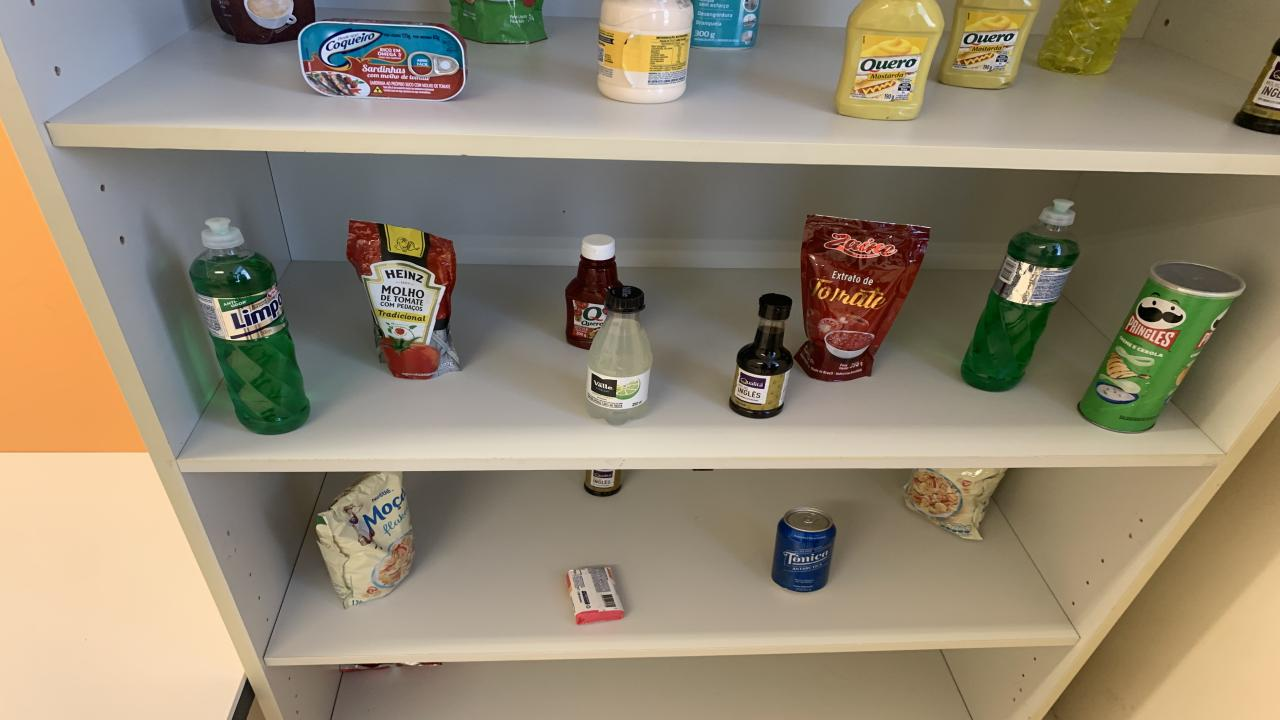Cleaner-Cleanup_Items: (690, 0, 760, 49)
Coffee-Pantry_Items: (210, 0, 315, 45)
Detergent-Cleanup_Items: (190, 218, 310, 433), (960, 199, 1080, 392), (1038, 0, 1138, 75)
English_Sauce-Pantry_Items: (730, 292, 792, 418), (1232, 38, 1280, 135), (585, 469, 622, 497)
Flakes-Snacks: (315, 472, 415, 608), (905, 469, 1005, 540)
Ketchup-Pantry_Items: (565, 234, 620, 349)
Mayonnaise-Pantry_Items: (598, 0, 692, 103)
Mustard-Pantry_Items: (835, 0, 945, 120), (938, 0, 1040, 88)
Pringles-Snacks: (1078, 261, 1245, 433)
Soap-Cleanup_Items: (565, 566, 625, 624)
Soda-Drinks: (588, 285, 652, 426)
Tomato_Sauce-Pantry_Items: (795, 216, 930, 382), (348, 219, 460, 381), (450, 0, 548, 43)
Tonic-Drinks: (772, 506, 835, 592)
Tuna_Can-Pantry_Items: (298, 19, 468, 101)
